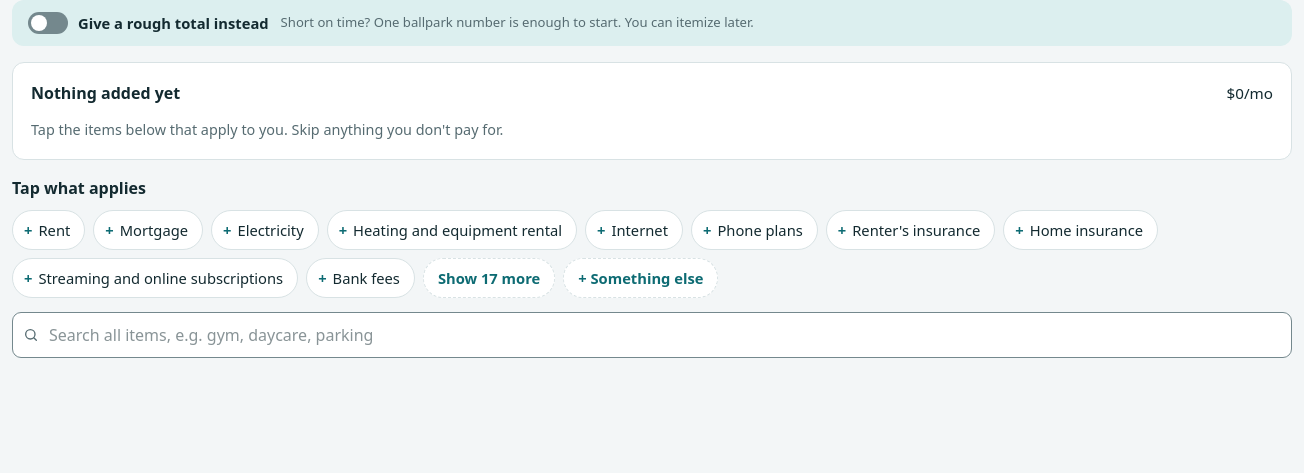
Test case: ItemSearch › adds a hit from this bucket, clears the search and focuses its amount
Type "rent" into the search field. click: (652,335)
box: [12,312,1292,358]
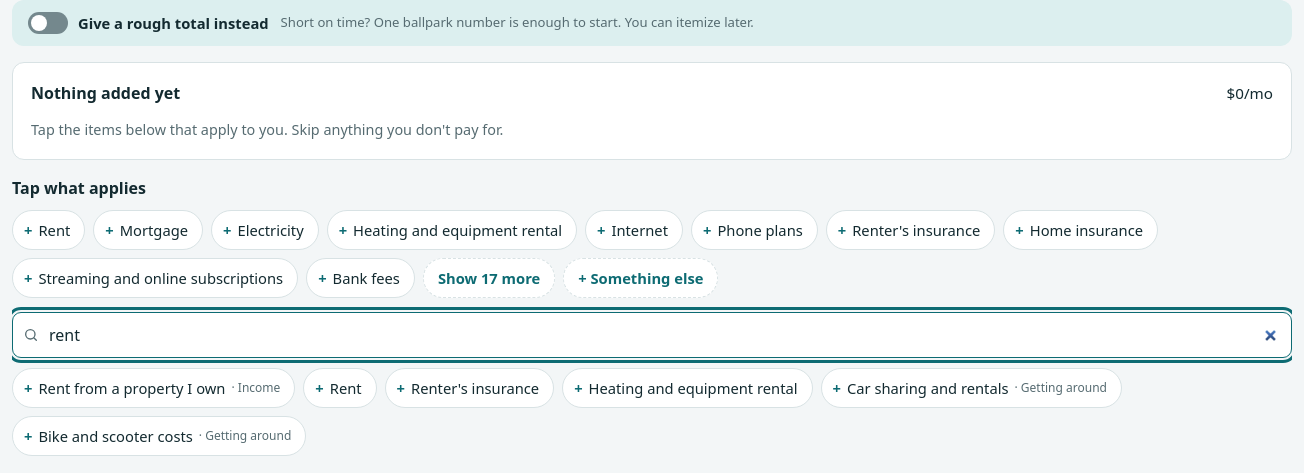
Click the button with aria-label "Add Rent". click: (340,388)
box: [303,368,377,408]
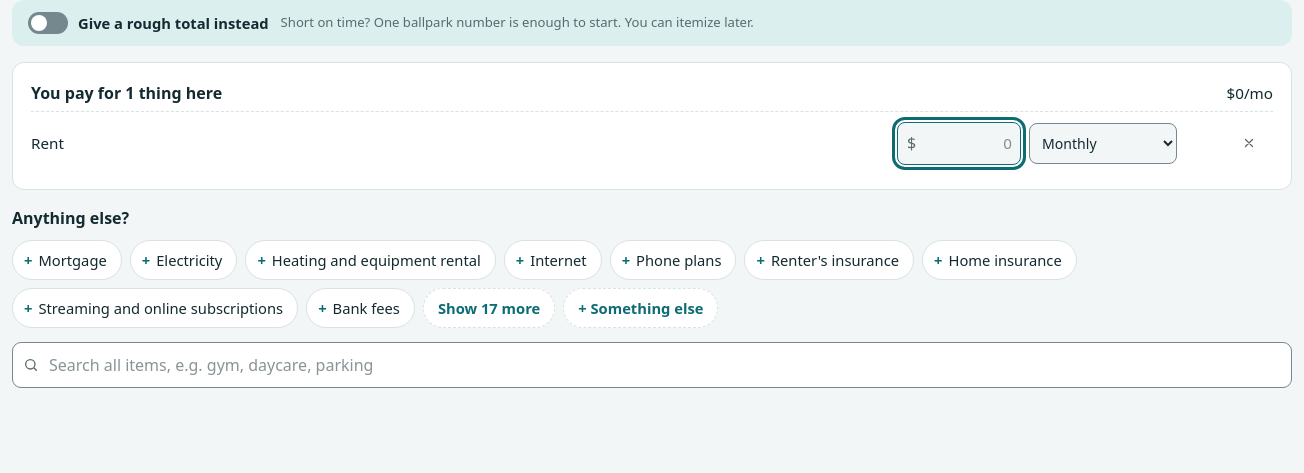
Result: the search field is empty at [12,342,1292,388]
Result: no the button "+ Rent" are shown
